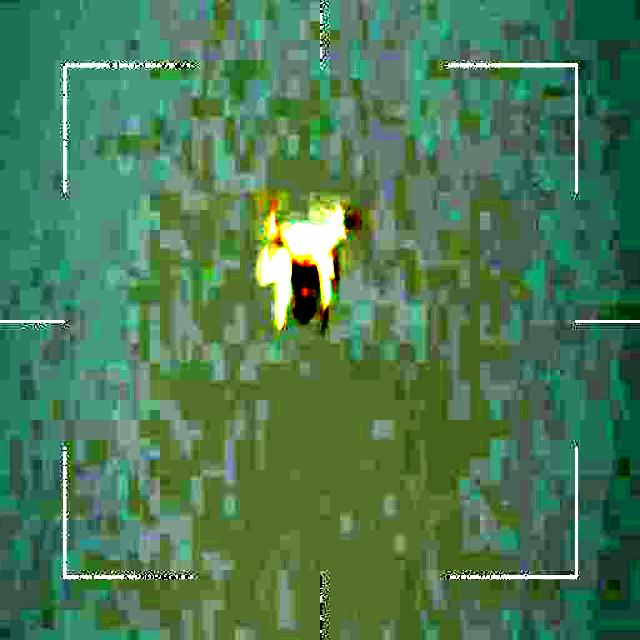bird: (239, 201, 356, 331)
